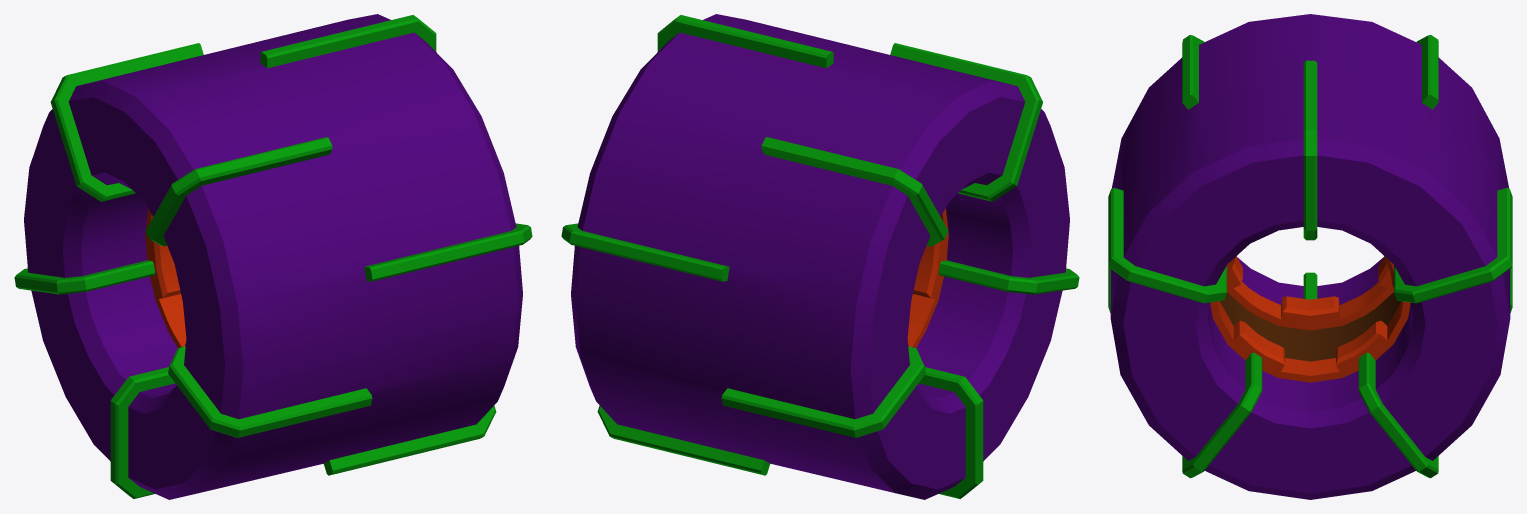
Rendered from OBJ_Reacteur_Entree.fbx.
3 views of the same model, side by side, from view 1: azimuth 30°, elevation 25°; view 2: azimuth 150°, elevation 25°; view 3: azimuth 270°, elevation 25° (orthographic). The views are drawn at different scales.
Visible parts, largest first — view 1: OBJ_Reacteur_Entree; view 2: OBJ_Reacteur_Entree; view 3: OBJ_Reacteur_Entree.
Part boxes in pixels (<box>): OBJ_Reacteur_Entree: <box>14,14,532,499</box>; OBJ_Reacteur_Entree: <box>561,14,1079,499</box>; OBJ_Reacteur_Entree: <box>1108,14,1512,499</box>.
Size of the model in its own units: 27 by 33.08 by 31.68.
